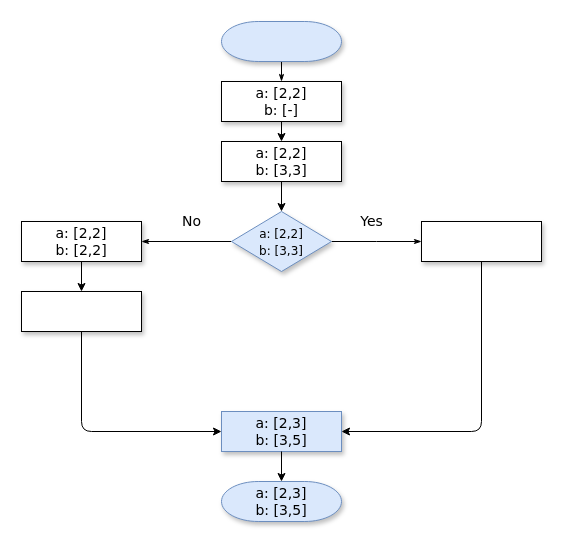
Image size: 565x546. Some labels were removed from this diagram. Here are the shapes that lost their labels. From the top down, the centre of each, then its label:
At pixel 282 42: "a: [-] b: [-]".
At pixel 482 242: "a: [2,2] b: [5,5]".
At pixel 82 312: "a: [3,3] b: [3,3]".
